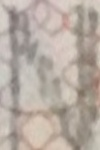N: (0, 0, 99, 149)
